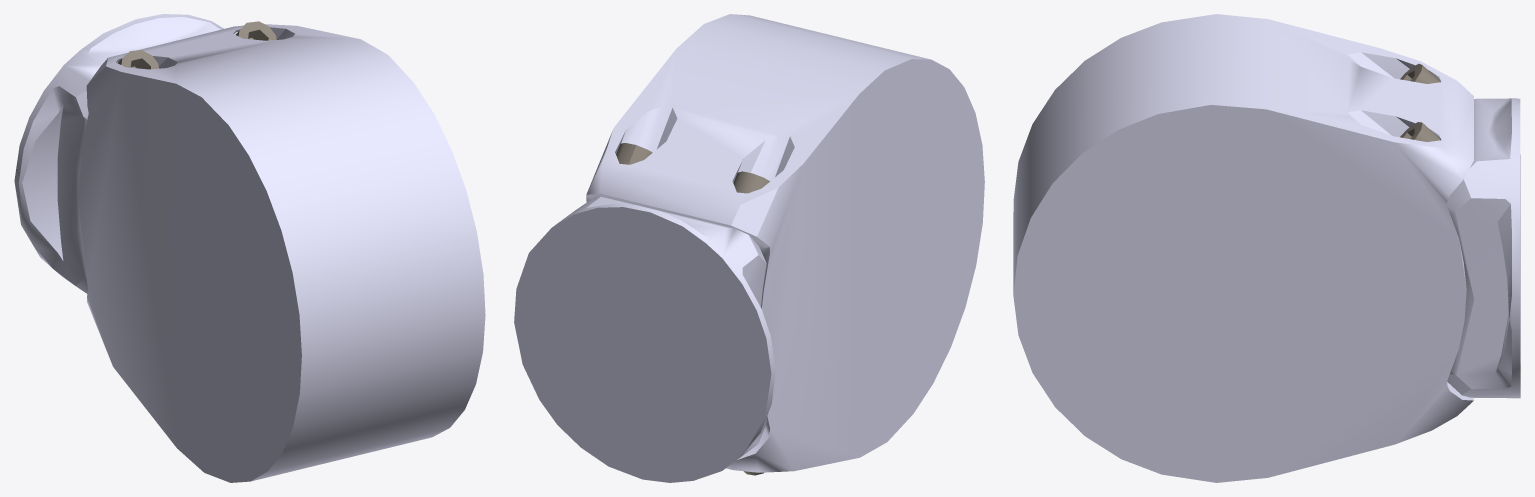
File: left-hip-yaw.obj
3 renders of one model, left to right at view 1: azimuth 30°, elevation 25°; view 2: azimuth 150°, elevation 25°; view 3: azimuth 270°, elevation 25°, orthographic.
Parts seen in each view (by area): view 1: left_hip_yaw; view 2: left_hip_yaw; view 3: left_hip_yaw.
Boxes of the visible parts, box(x1,y1,x2,y2) form: left_hip_yaw: box(14, 14, 485, 482); left_hip_yaw: box(514, 14, 984, 482); left_hip_yaw: box(1013, 14, 1520, 482).
Size of the model in its own units: 0.0702 by 0.0973 by 0.1182.
Materials: 1 (1 with a texture image).
